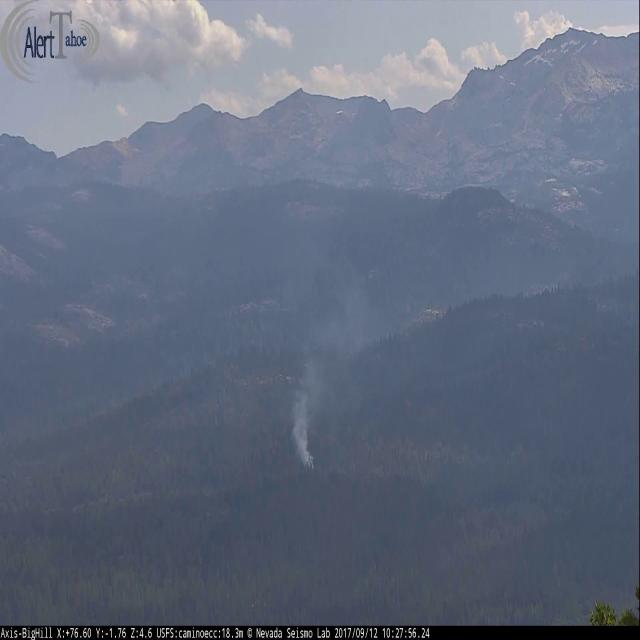smoke: (293, 226, 639, 465)
